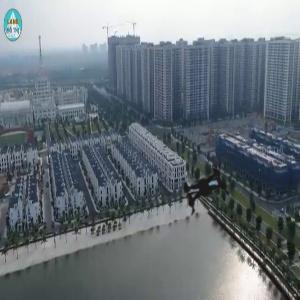drone: (128, 117, 273, 262)
